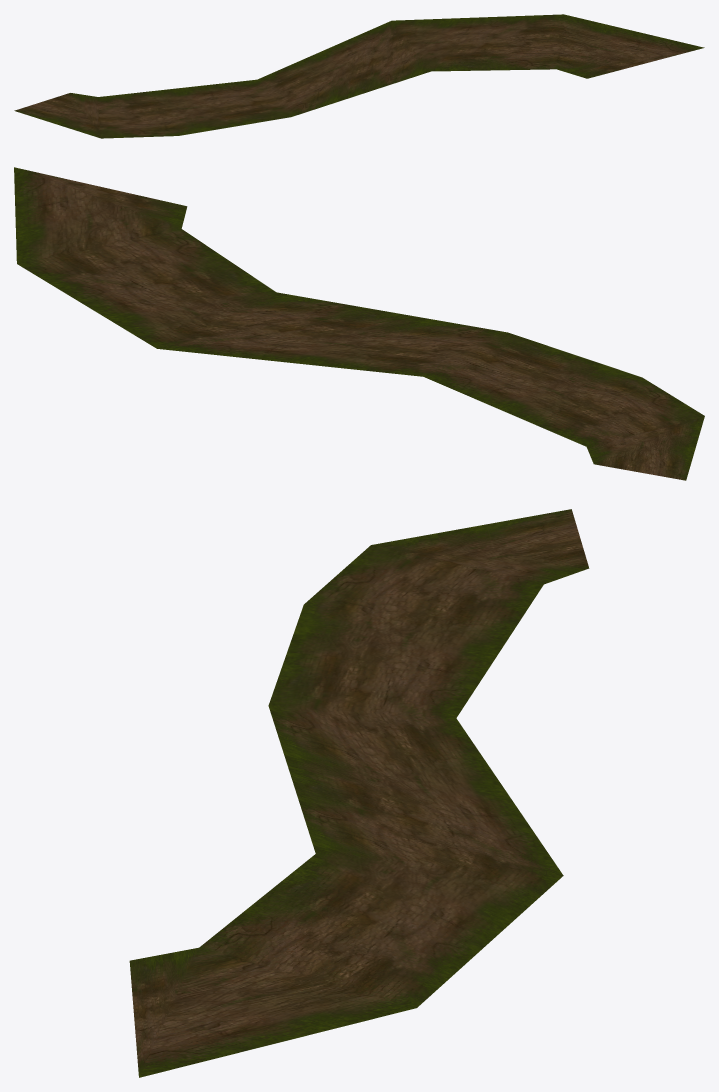
The model's file is xunlu01.FBX.
3 views of the same model, one above another, from view 1: azimuth 30°, elevation 25°; view 2: azimuth 150°, elevation 25°; view 3: azimuth 270°, elevation 25° (orthographic). The views are drawn at different scales.
Visible parts, largest first — view 1: xunlu01; view 2: xunlu01; view 3: xunlu01.
Boxes of the visible parts, x1=… form: xunlu01: x1=14, y1=14, x2=704, y2=138; xunlu01: x1=14, y1=167, x2=704, y2=480; xunlu01: x1=129, y1=509, x2=589, y2=1077.
Size of the model in its own units: 48.24 by 5.14e-07 by 16.48.
